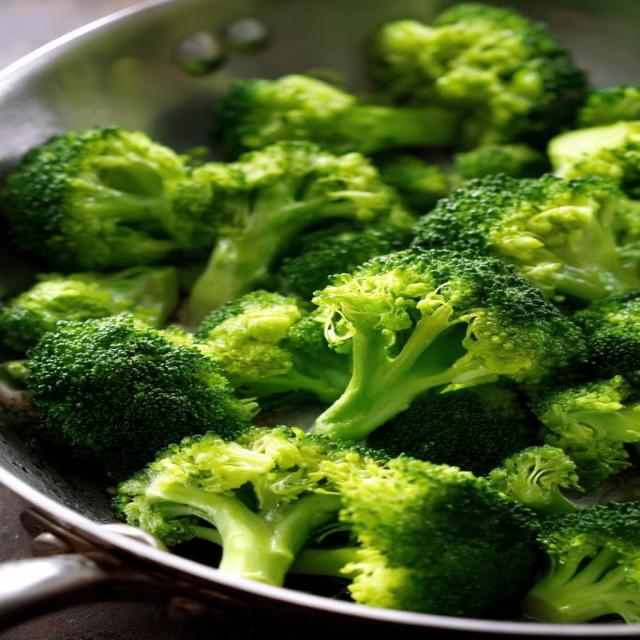broccoli: (313, 247, 583, 440), (113, 426, 384, 585), (186, 141, 413, 326), (292, 456, 536, 616), (27, 314, 256, 475), (367, 2, 588, 148), (0, 127, 211, 272), (412, 174, 639, 306), (214, 74, 457, 154), (194, 290, 350, 403), (367, 384, 538, 475), (0, 266, 178, 351), (521, 501, 639, 624), (531, 375, 639, 491), (375, 143, 550, 213), (278, 222, 411, 300), (548, 117, 639, 198), (488, 444, 582, 518), (571, 290, 639, 386), (577, 84, 639, 128)
